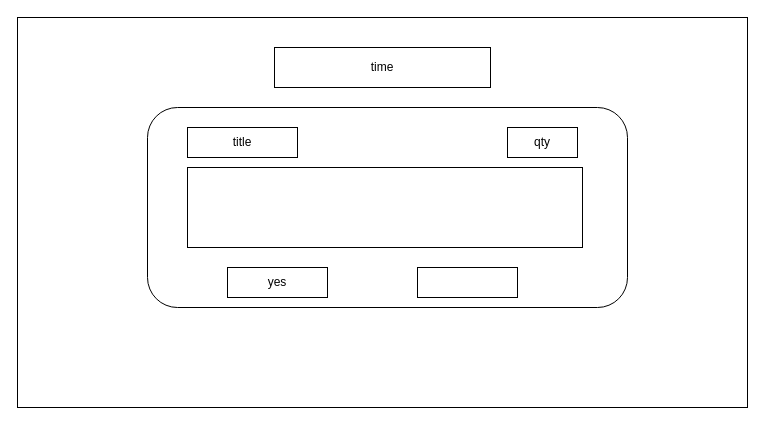
Image size: 765x425. Some labels were removed from this diagram. The shapes that lost their labels are listed below. From the top down, each one's centre as x and y in pixels, then its label:
At (384,207): "qes".
At (467,282): "no".
